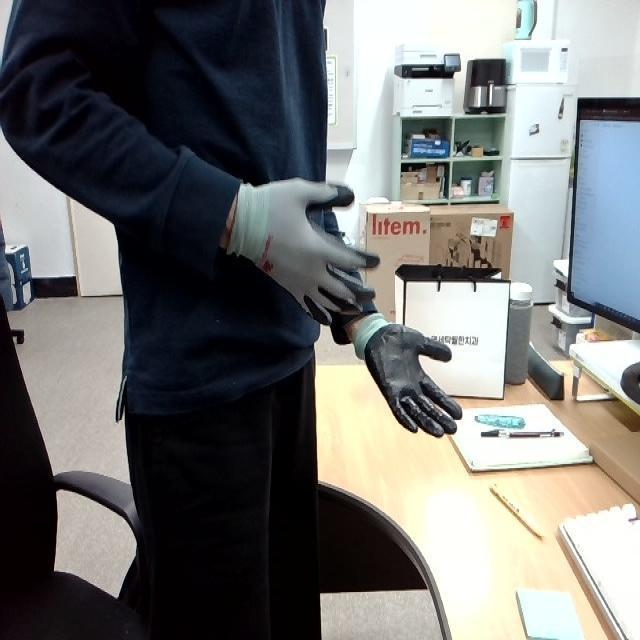gloved_hand: (222, 165, 384, 341), (359, 312, 467, 443)
